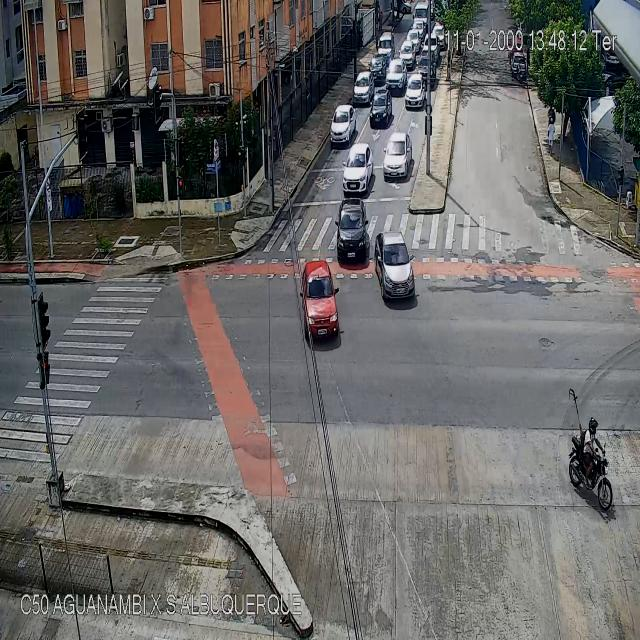Car: (299, 257, 341, 344), (375, 229, 417, 305), (336, 196, 369, 264), (344, 142, 374, 192), (384, 132, 412, 179), (330, 105, 356, 143), (370, 91, 392, 128), (404, 75, 422, 113), (385, 59, 403, 92), (423, 37, 441, 66), (354, 70, 370, 102), (370, 54, 386, 86), (417, 54, 434, 82), (377, 30, 394, 57), (512, 52, 526, 78), (400, 39, 413, 65), (408, 26, 421, 50)
Motorcycle: (569, 416, 618, 515), (516, 62, 522, 84)
Truck: (413, 4, 430, 28)
